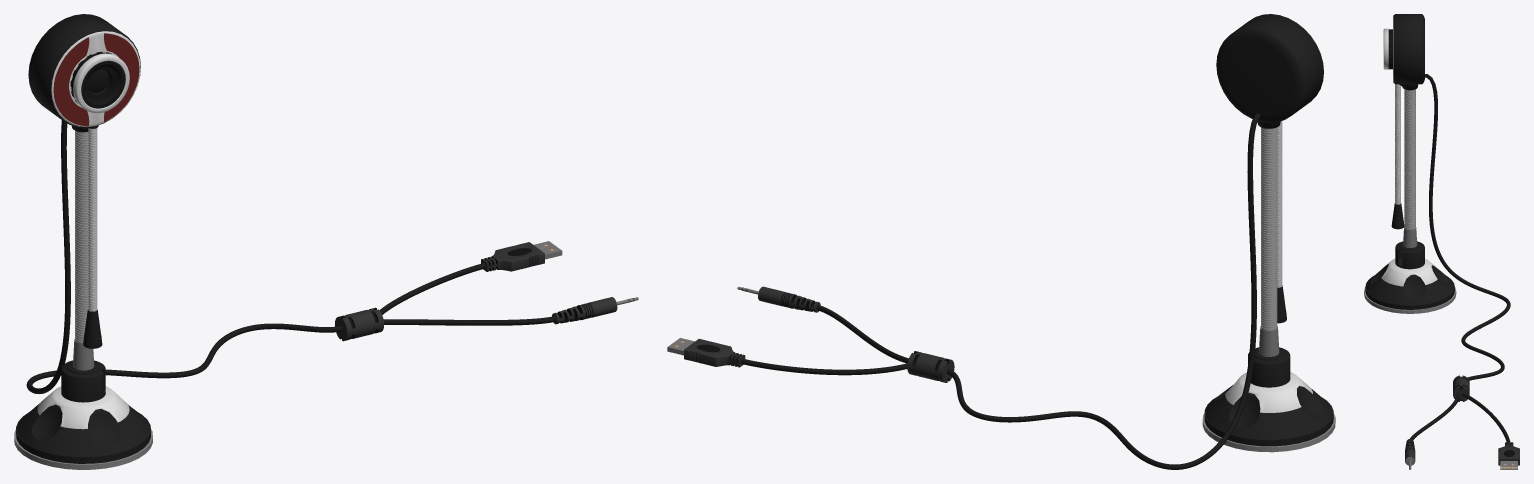
The model's file is web-camera.glb.
The picture shows the model from 3 angles, left to right: view 1: azimuth 30°, elevation 25°; view 2: azimuth 150°, elevation 25°; view 3: azimuth 270°, elevation 25°; orthographic projection. The views are drawn at different scales.
Parts seen in each view (by area): view 1: Cylinder.002, Cylinder.006, NurbsPath, Cylinder.004, Cylinder.007, Cube, Cylinder.016, Cylinder.008, NurbsPath.001, Cube.001, Cylinder.003, Cylinder.001 (+3 smaller); view 2: Cylinder.006, NurbsPath, Cylinder.002, Cylinder.004, Cylinder.016, NurbsPath.001, Cube.001, Cylinder.003, Cylinder.001, Cylinder.008, Cylinder.012, Cylinder.013 (+1 smaller); view 3: Cylinder.006, Cylinder.002, NurbsPath, Cylinder.004, Cylinder.016, Cylinder.008, Cylinder.003, NurbsPath.001, Cube.001, Cylinder.001, Cylinder, Cylinder.007 (+4 smaller).
Boxes of the visible parts, x1,y1,x2,y2 form: Cylinder.002: (17,403,149,456); Cylinder.006: (28,14,140,127); NurbsPath: (26,120,342,394); Cylinder.004: (75,130,88,342); Cylinder.007: (70,51,129,113); Cube: (53,33,139,126); Cylinder.016: (37,386,129,429); Cylinder.008: (88,128,97,311); NurbsPath.001: (379,263,555,325); Cube.001: (481,241,562,271); Cylinder.003: (61,360,105,402); Cylinder.001: (16,412,150,463); Cylinder.006: (1216,14,1323,122); NurbsPath: (947,113,1260,469); Cylinder.002: (1205,384,1332,439); Cylinder.004: (1261,127,1277,330); Cylinder.016: (1225,372,1312,412); NurbsPath.001: (741,305,908,375); Cube.001: (667,338,745,367); Cylinder.003: (1248,347,1290,387); Cylinder.001: (1204,397,1333,446); Cylinder.008: (1277,121,1282,287); Cylinder.012: (907,351,954,382); Cylinder.013: (737,286,820,312); Cylinder.006: (1393,14,1424,84); Cylinder.002: (1366,264,1453,305); NurbsPath: (1425,74,1510,380); Cylinder.004: (1404,89,1415,229); Cylinder.016: (1381,257,1438,286); Cylinder.008: (1395,84,1400,204); Cylinder.003: (1395,241,1424,269); NurbsPath.001: (1410,393,1510,442); Cube.001: (1498,442,1519,469); Cylinder.001: (1365,276,1454,309); Cylinder: (1364,287,1456,313); Cylinder.007: (1383,28,1392,69).
Size of the model in its own units: 0.3675 by 0.2396 by 0.1218.
